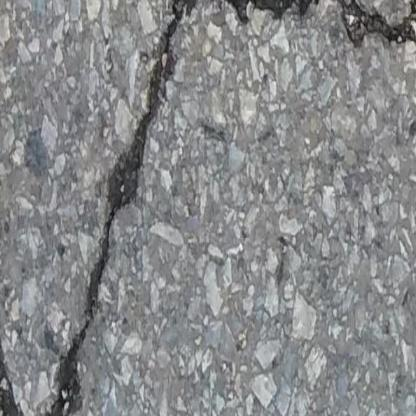Cracks: (0, 0, 200, 416), (220, 0, 416, 42), (0, 0, 24, 8)
